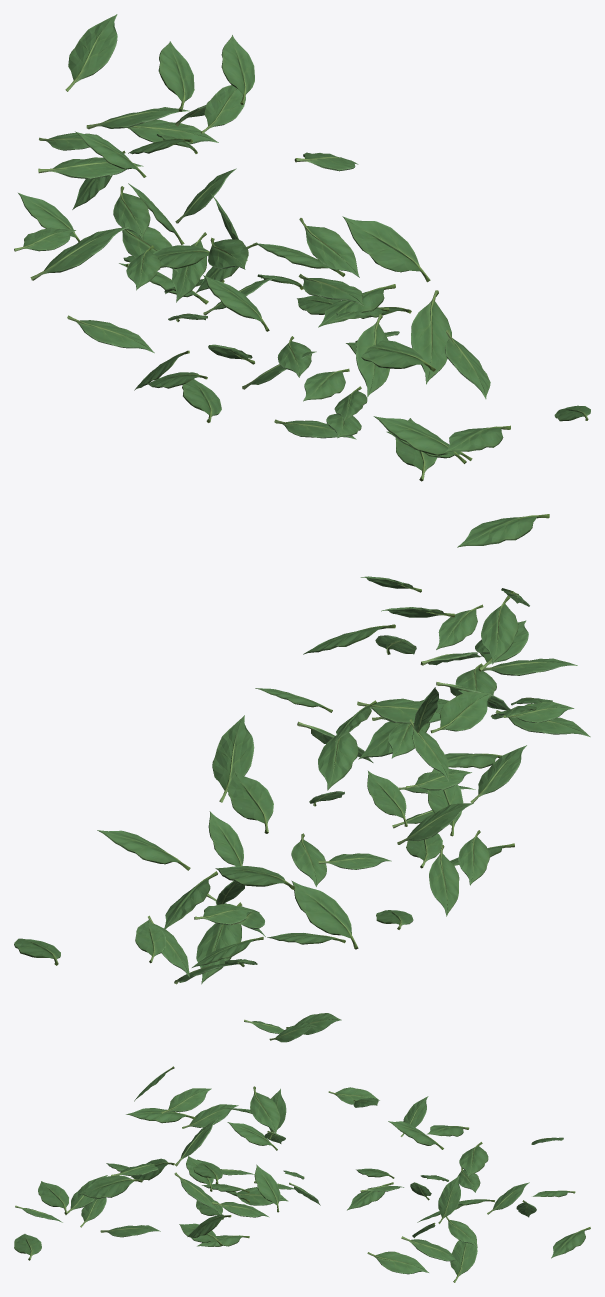
The model's file is holy_canopy6_complete.glb.
3 views of the same model, one above another, from view 1: azimuth 30°, elevation 25°; view 2: azimuth 150°, elevation 25°; view 3: azimuth 270°, elevation 25° (orthographic). The views are drawn at different scales.
Visible parts, largest first — view 1: holy_canopy6; view 2: holy_canopy6; view 3: holy_canopy6.
Boxes of the visible parts, x1,y1,x2,y2 form: holy_canopy6: (14, 14, 590, 547); holy_canopy6: (14, 576, 590, 984); holy_canopy6: (14, 1013, 590, 1282).
Bounding box in the file's own units: 9.11 × 10.66 × 24.11.
1 material, 1 textured.
